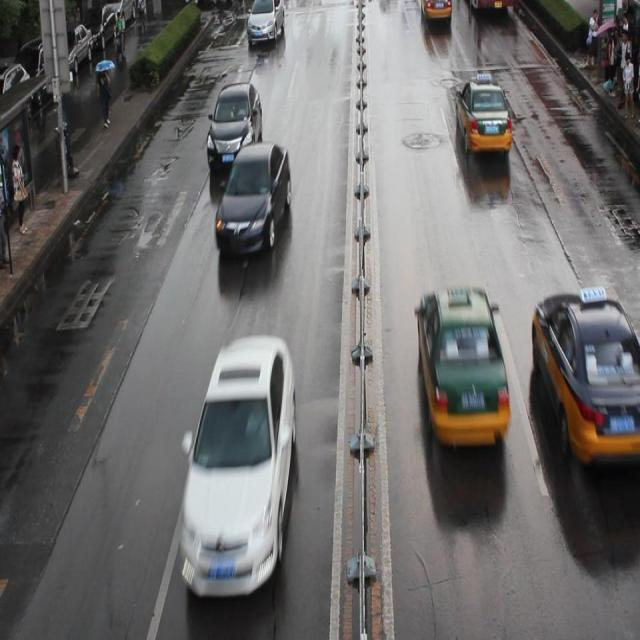car: (180, 334, 296, 596), (530, 290, 640, 466), (416, 283, 510, 449), (214, 141, 290, 256), (206, 83, 263, 169), (454, 77, 510, 154), (246, 1, 285, 43), (420, 1, 451, 19)
van: (465, 1, 515, 10)
